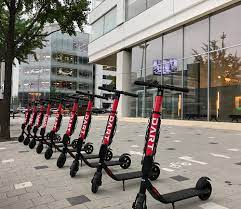kick_board: (132, 80, 212, 209)
kick_handler: (135, 81, 189, 95), (99, 86, 135, 97), (76, 91, 103, 99)
kick_neck: (145, 97, 160, 178)
kick_wheel: (197, 180, 213, 199), (91, 172, 102, 192), (69, 161, 78, 177), (56, 153, 65, 169), (120, 156, 131, 169), (44, 148, 52, 159), (85, 144, 93, 153), (29, 140, 35, 149), (18, 134, 24, 142), (37, 144, 42, 153)
